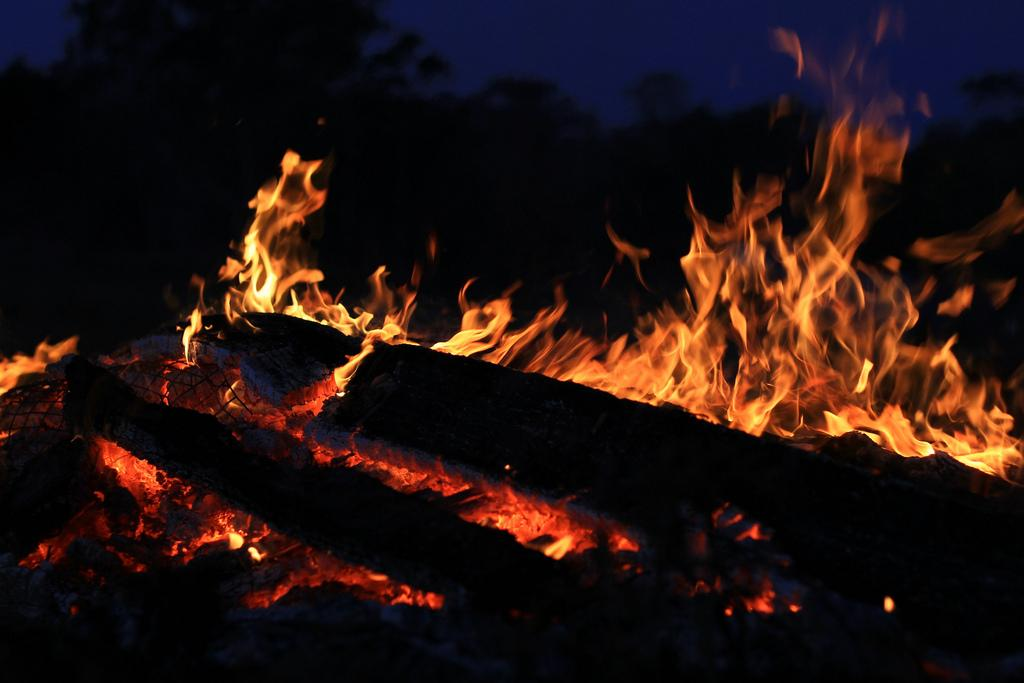fire: (693, 208, 843, 420), (233, 160, 302, 308)
